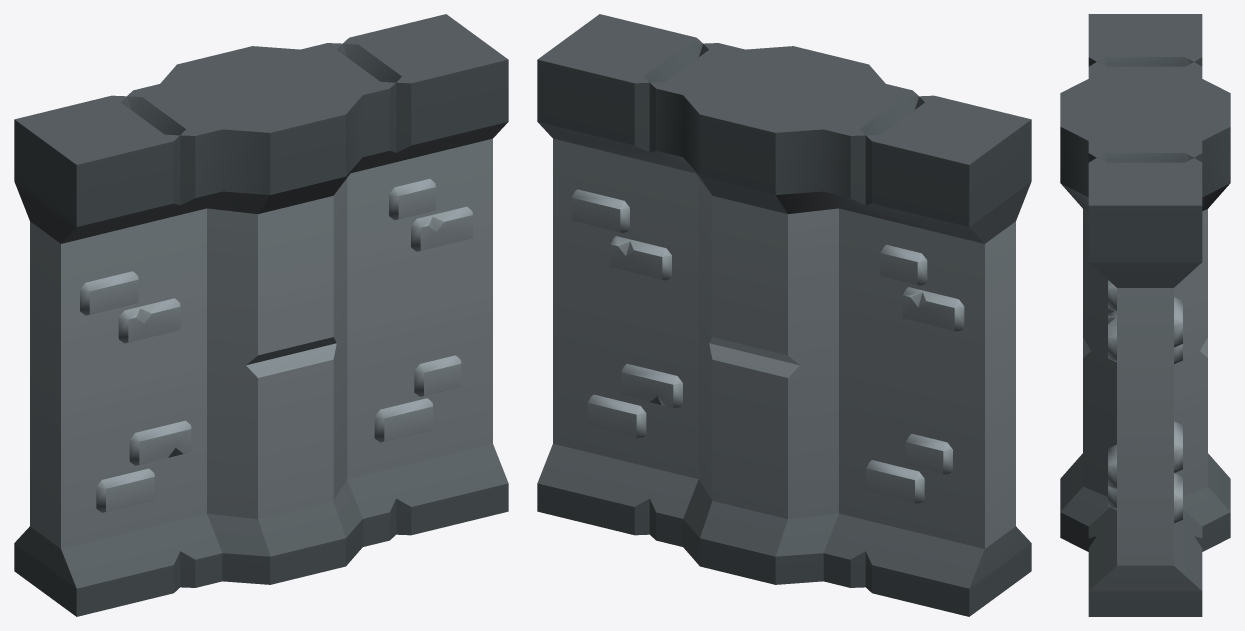
The model's file is wall_pillar.glb.
The picture shows the model from 3 angles, left to right: view 1: azimuth 30°, elevation 25°; view 2: azimuth 150°, elevation 25°; view 3: azimuth 270°, elevation 25°; orthographic projection. The views are drawn at different scales.
Visible parts, largest first — view 1: wall_pillar; view 2: wall_pillar; view 3: wall_pillar.
Boxes of the visible parts, bbox=[...] form: wall_pillar: bbox=[14, 14, 508, 616]; wall_pillar: bbox=[537, 14, 1031, 616]; wall_pillar: bbox=[1060, 14, 1230, 616].
Size of the model in its own units: 4 by 4 by 1.5.
1 material, 1 textured.
